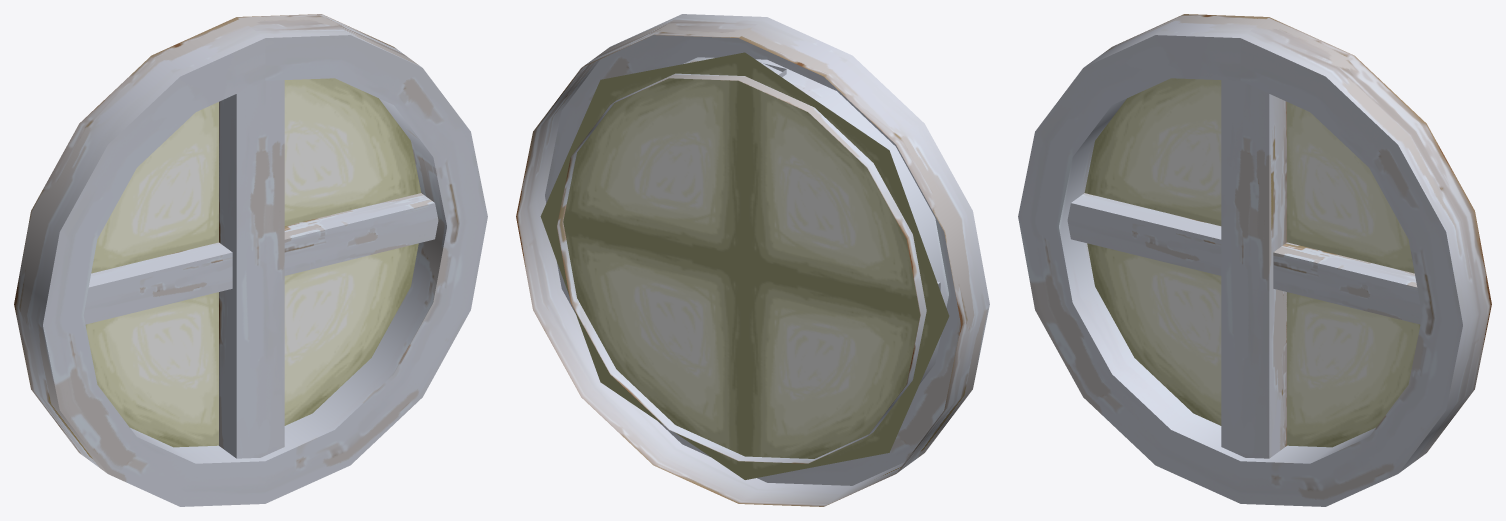
File: MOD_Window_03_03.fbx
The picture shows the model from 3 angles, left to right: view 1: azimuth 30°, elevation 25°; view 2: azimuth 150°, elevation 25°; view 3: azimuth 330°, elevation 25°; orthographic projection.
Parts seen in each view (by area): view 1: MOD_Window_03_03; view 2: MOD_Window_03_03; view 3: MOD_Window_03_03.
Part boxes in pixels (bbox=[...]): MOD_Window_03_03: bbox=[14, 14, 487, 506]; MOD_Window_03_03: bbox=[516, 14, 989, 506]; MOD_Window_03_03: bbox=[1018, 14, 1491, 506].
Bounding box in the file's own units: 120 × 120 × 13.44.
